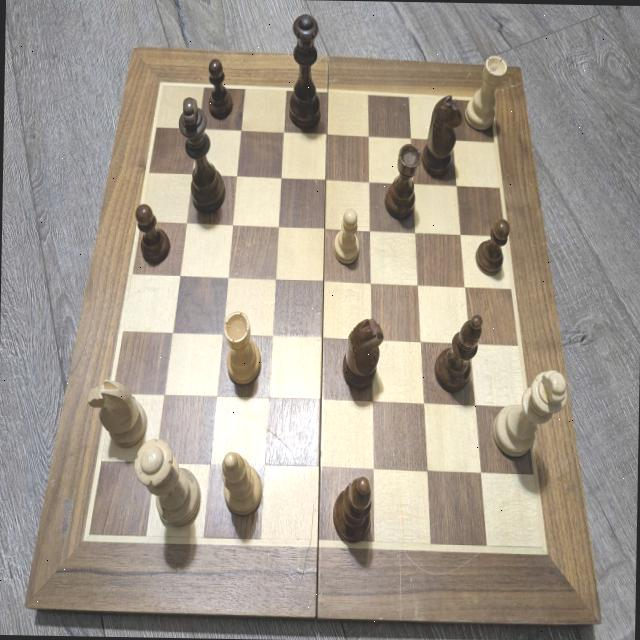black_bishop: (432, 313, 481, 394), (332, 475, 372, 543)
black_king: (176, 95, 228, 214)
black_knight: (422, 94, 462, 174), (340, 314, 382, 390)
black_pawn: (133, 202, 172, 266), (474, 217, 510, 274), (206, 58, 233, 119)
black_queen: (289, 14, 325, 130)
black_rook: (384, 143, 421, 221)
white_bishop: (219, 452, 263, 516)
white_king: (492, 365, 566, 457)
white_knight: (86, 379, 147, 446)
white_pawn: (332, 208, 358, 266)
white_queen: (134, 436, 202, 526)
white_rook: (464, 55, 507, 132), (222, 309, 262, 386)
